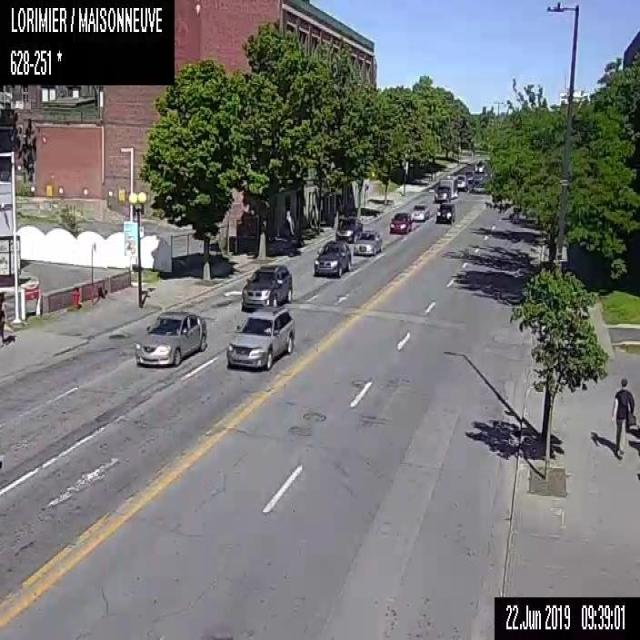pedestrian: (609, 374, 636, 458), (0, 291, 5, 344)
vehicle: (226, 305, 294, 369), (133, 309, 207, 367), (241, 264, 292, 308), (313, 241, 350, 276), (334, 216, 362, 242), (353, 230, 382, 254), (434, 174, 457, 202), (388, 212, 412, 232), (435, 202, 455, 223), (411, 202, 428, 220), (456, 173, 468, 191), (465, 170, 473, 182), (473, 163, 482, 172)
